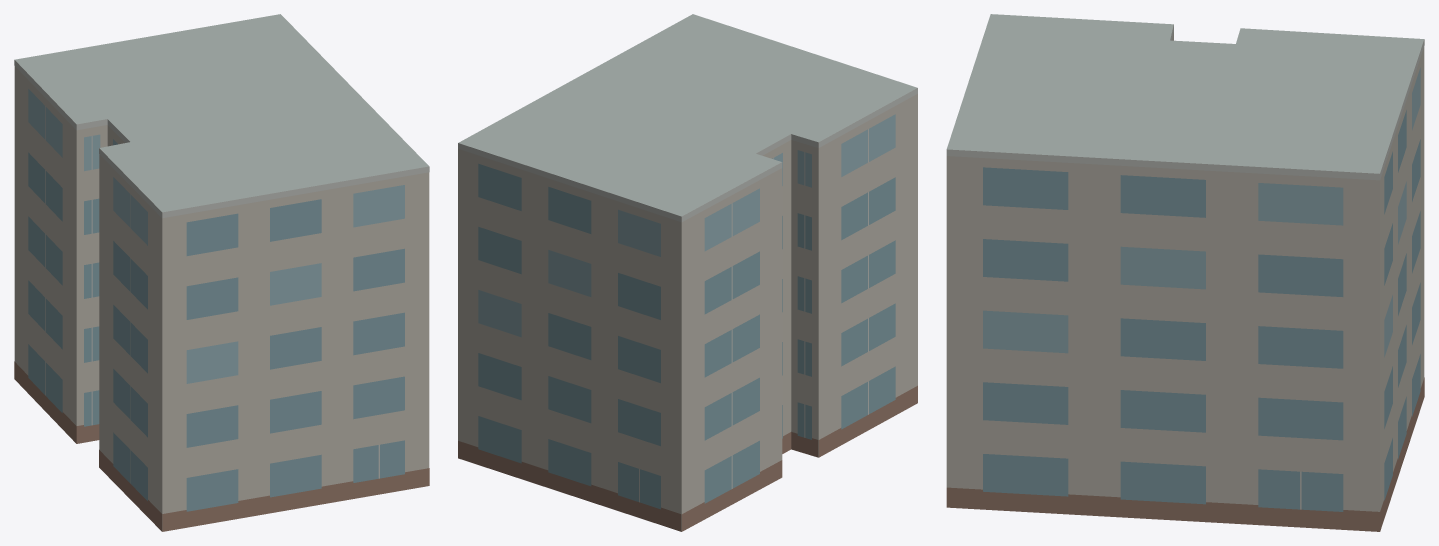
File: survey-upis-32798506.glb
The picture shows the model from 3 angles, left to right: view 1: azimuth 30°, elevation 25°; view 2: azimuth 150°, elevation 25°; view 3: azimuth 270°, elevation 25°; orthographic projection. The views are drawn at different scales.
Visible parts, largest first — view 1: survey-upis-32798506.tmp; view 2: survey-upis-32798506.tmp; view 3: survey-upis-32798506.tmp.
Boxes of the visible parts, left/top/right/bottom form: survey-upis-32798506.tmp: left=14, top=14, right=429, bottom=531; survey-upis-32798506.tmp: left=458, top=14, right=917, bottom=531; survey-upis-32798506.tmp: left=946, top=14, right=1424, bottom=531.
Size of the model in its own units: 12.74 by 13.3 by 16.09.
